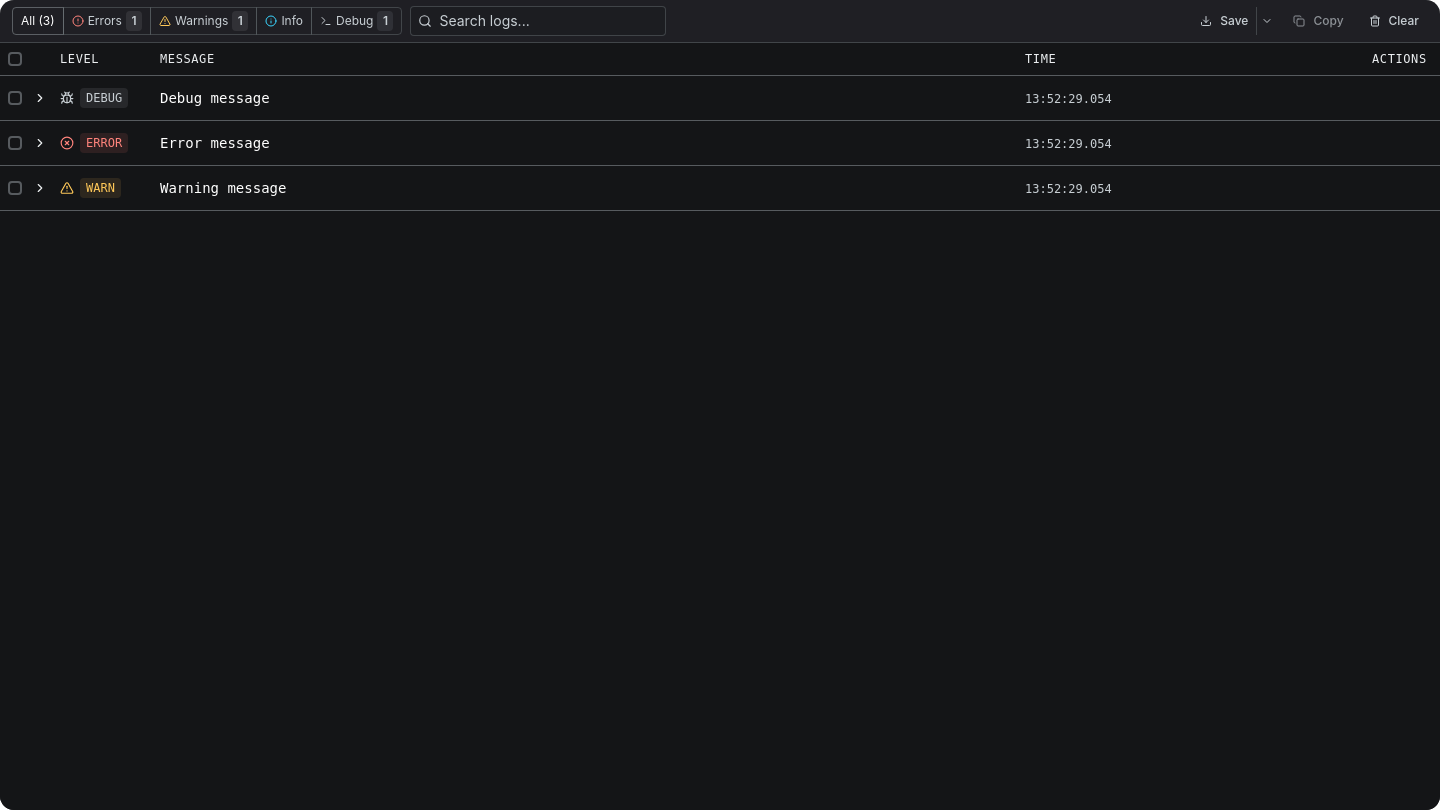
Test: ConsolePanel › filters logs by level
Expected: the row with test id "console-log-row-error-1" is shown, [0,120,1439,166]
# Filter by error
Click the button with test id "console-filter-error" at (107, 21), box [63,7,151,35]
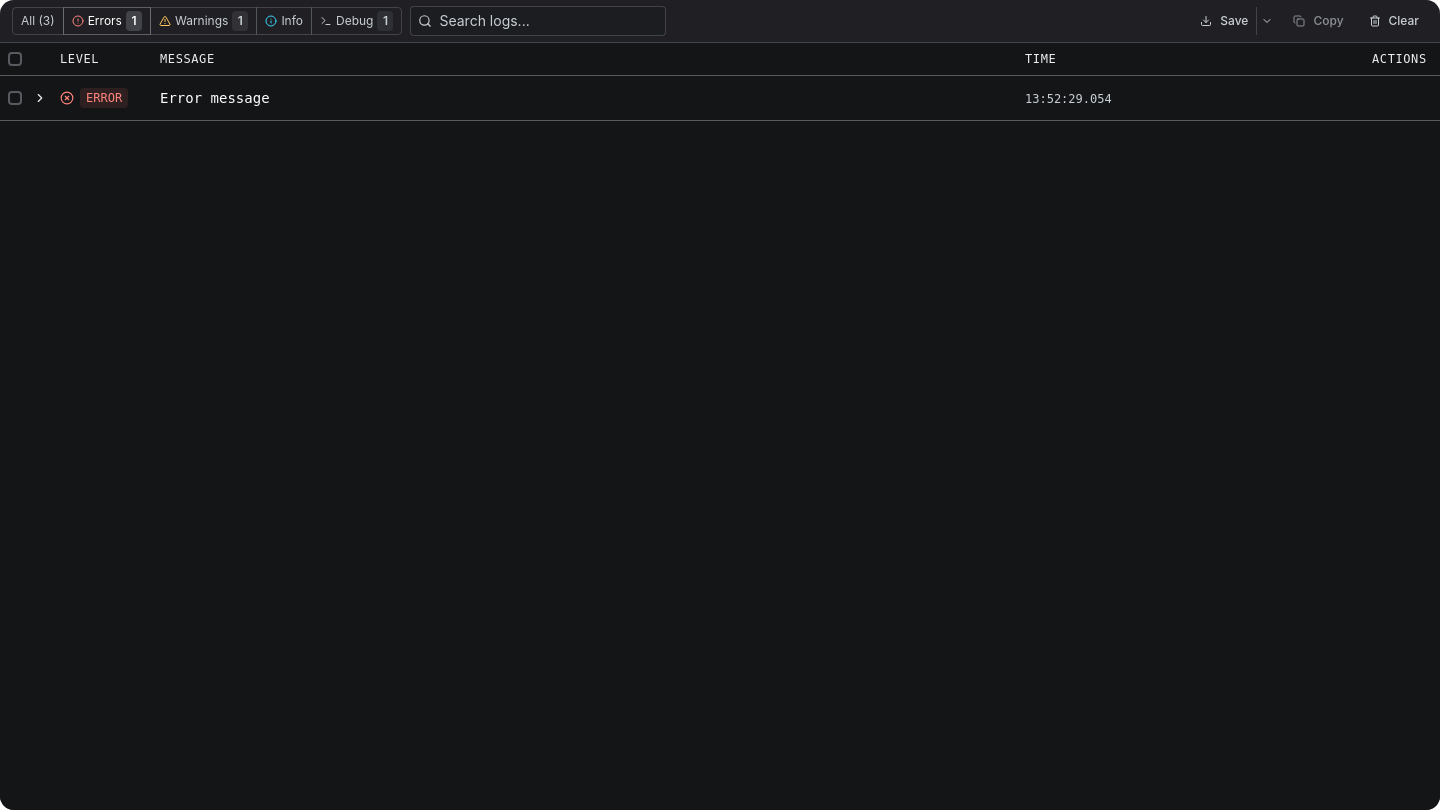
Expected: the row with test id "console-log-row-error-1" is shown, [0,76,1439,120]
Expected: the row with test id "console-log-row-debug-1" is gone
Expected: the row with test id "console-log-row-warn-1" is gone
